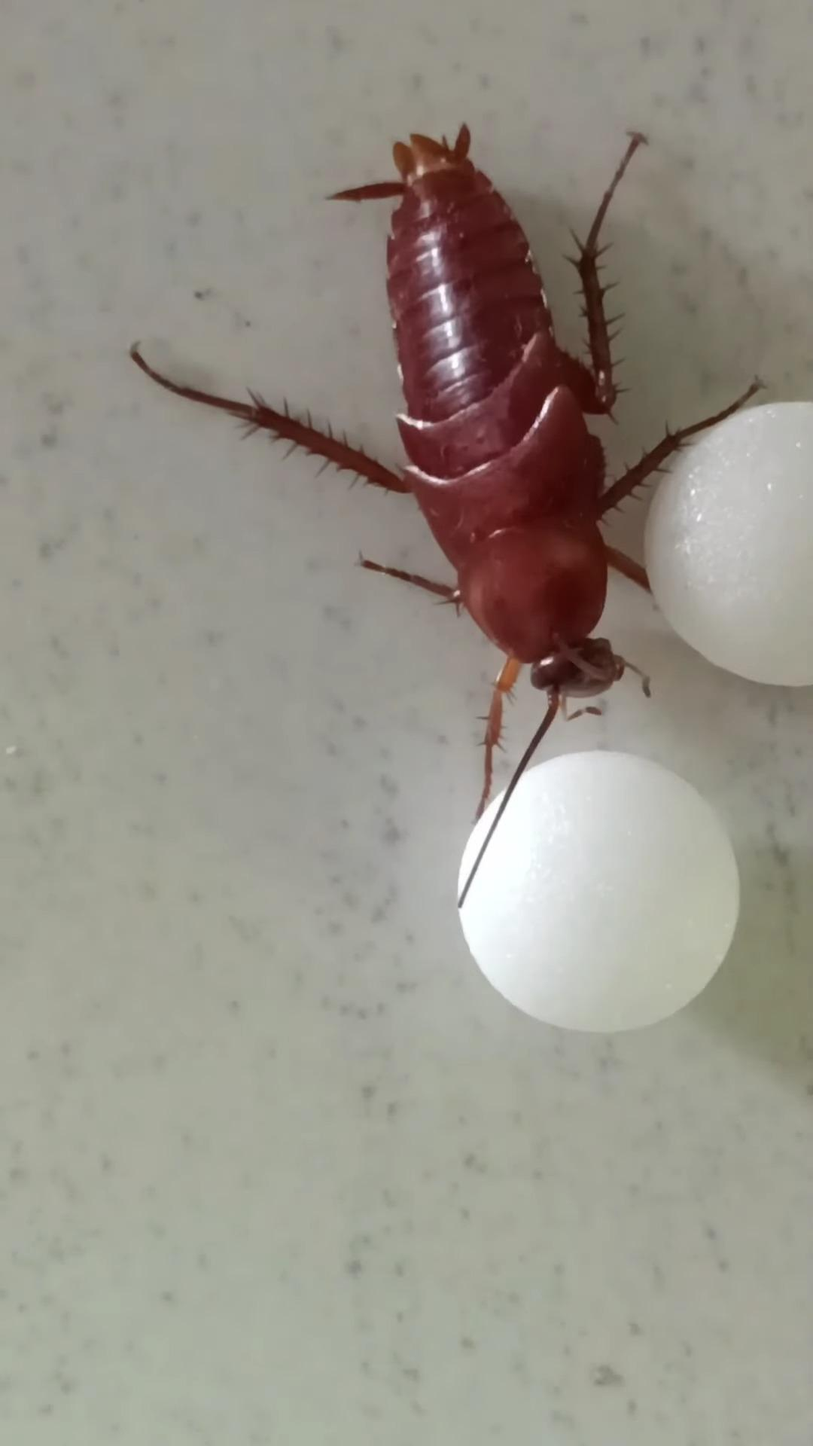cockroach: (84, 84, 637, 726)
